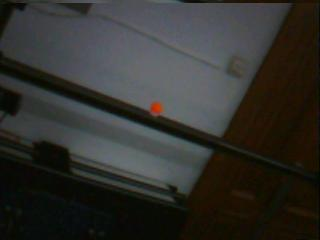oball: (151, 102, 163, 113)
